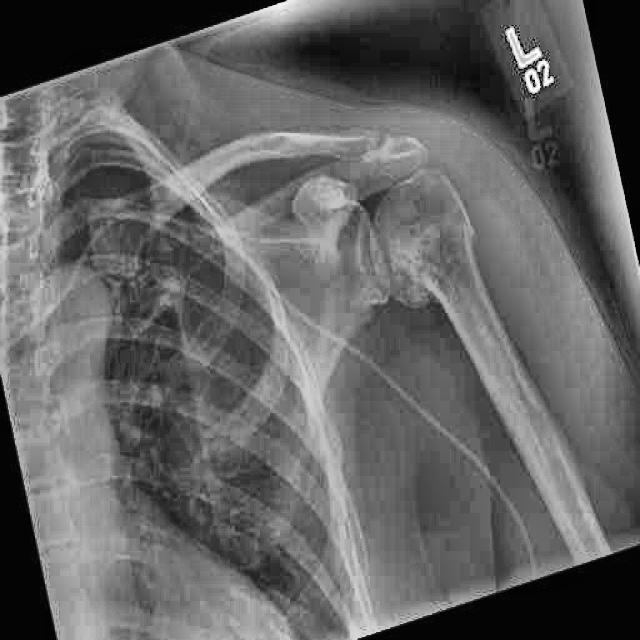shoulder fracture: (446, 207, 492, 269)
